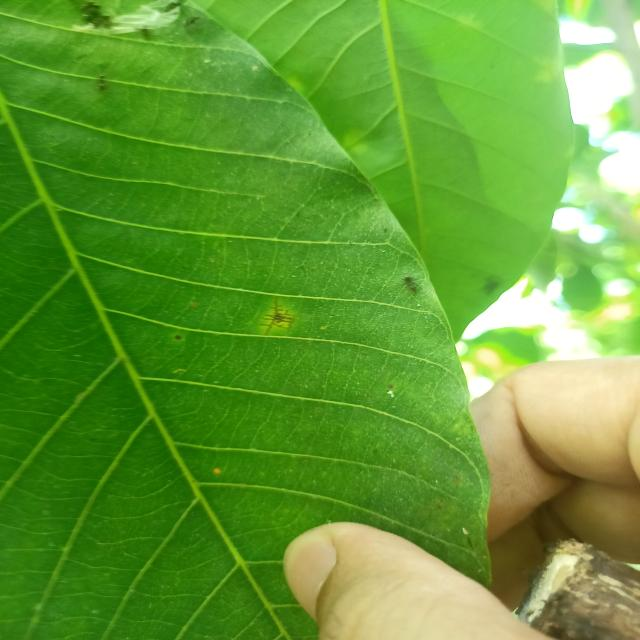Colletotrichum: (175, 335, 181, 340)
Corynespora: (257, 296, 294, 335)
